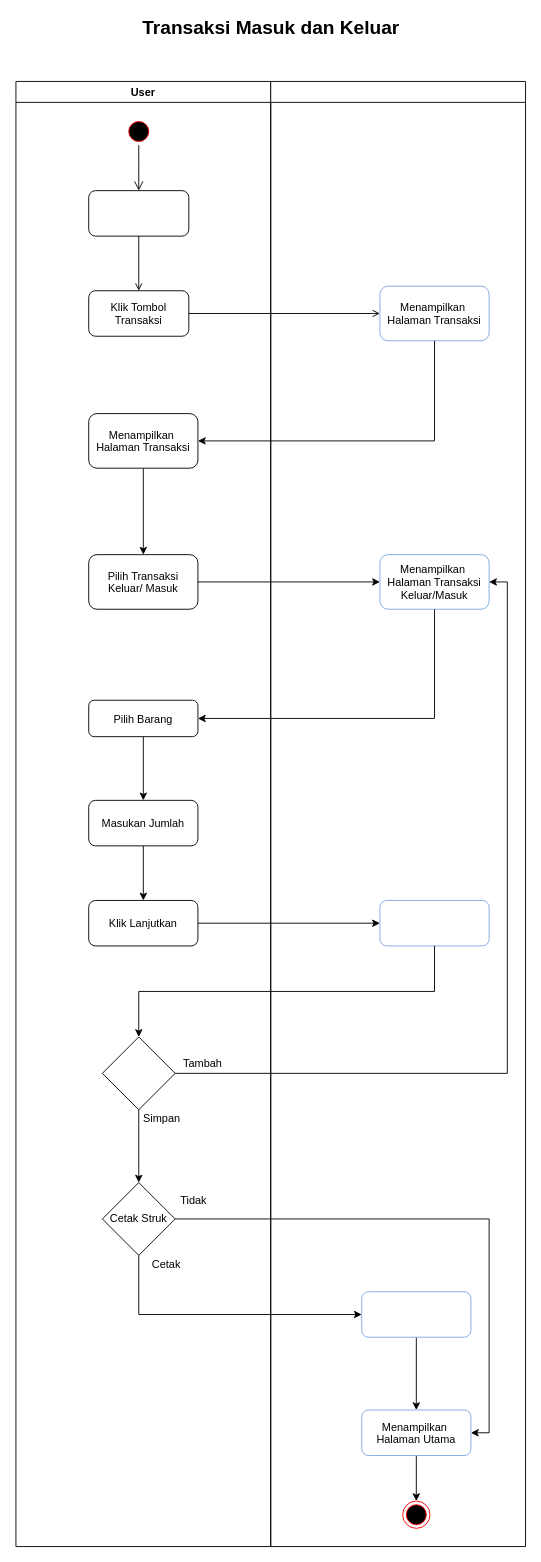
Some shapes in this 541 by 1562 pixel diagram are drawn without their labels. The box of each missing label's shape, as (x1, y1, x2, y2) in pixels:
Checkout: (101, 1036, 175, 1110)
Halaman Utama Aplikasi: (88, 190, 189, 236)
Menampilkan isi Keranjang: (379, 900, 489, 946)
Mencetak Struk: (361, 1291, 471, 1337)
System: (270, 81, 526, 1547)
